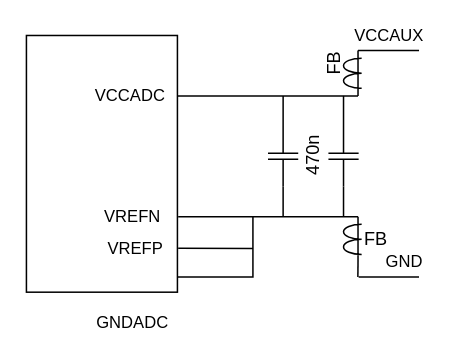
This 450x358 diagram has some shape labels left out. The shapes that lost their labels are listed below. From the top down, each one's box as (x1, y1, x2, y2) in pixels, then its label:
(25, 34, 177, 292): FPGA
(327, 125, 359, 186): 100n
